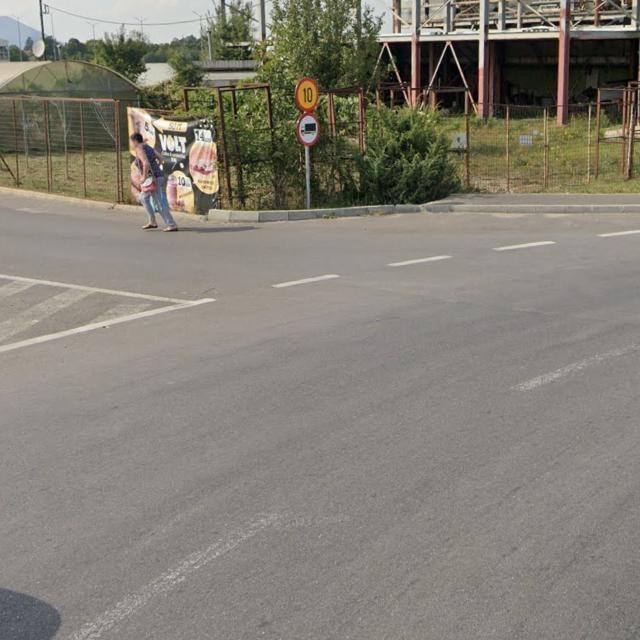forb_speed_over_10: (295, 78, 319, 112)
